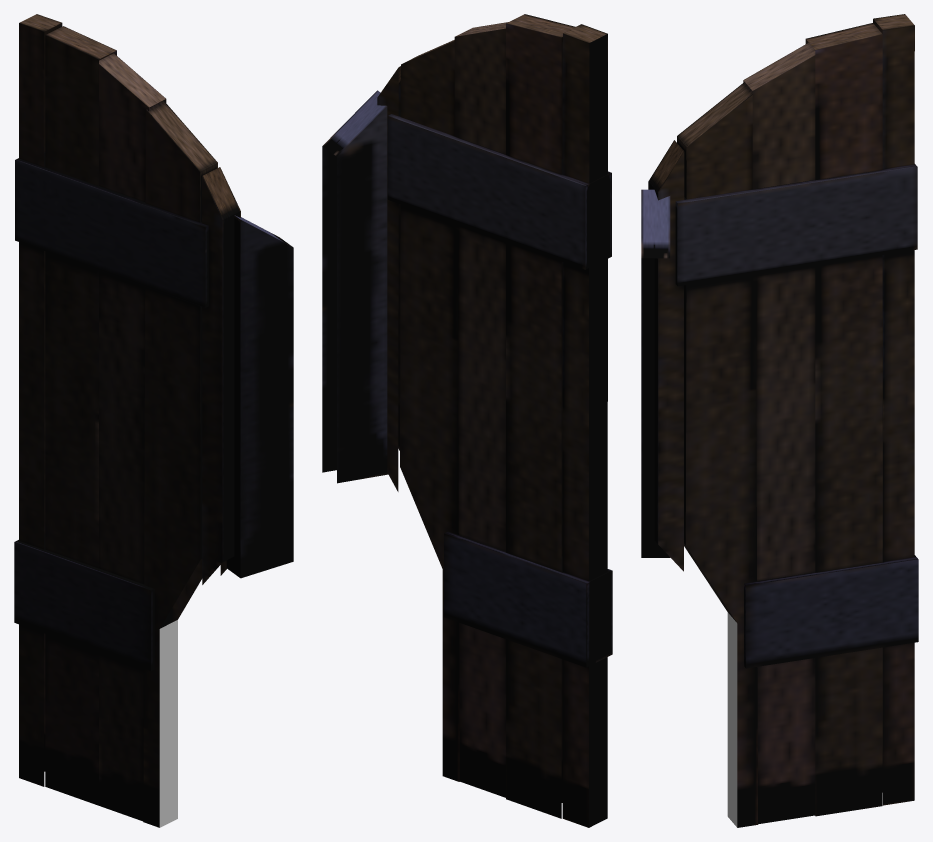
The model's file is DoorSide1F7.obj.
The picture shows the model from 3 angles, left to right: view 1: azimuth 30°, elevation 25°; view 2: azimuth 210°, elevation 25°; view 3: azimuth 270°, elevation 25°; orthographic projection. The views are drawn at different scales.
Visible parts, largest first — view 1: object 2, DoorSide1F7_Cube.436; view 2: object 2; view 3: object 2, DoorSide1F7_Cube.436.
Part boxes in pixels (x1=…): object 2: x1=14, y1=14, x2=293, y2=827; DoorSide1F7_Cube.436: x1=159, y1=620, x2=177, y2=827; object 2: x1=322, y1=14, x2=612, y2=827; object 2: x1=641, y1=14, x2=918, y2=827; DoorSide1F7_Cube.436: x1=727, y1=612, x2=737, y2=827.
Bounding box in the file's own units: 56.09 × 268 × 86.66.
